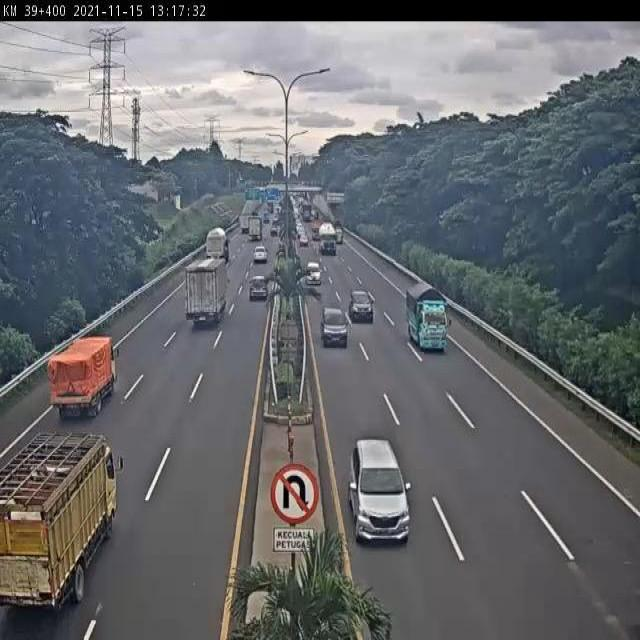car: (346, 436, 413, 547), (320, 306, 351, 351), (348, 291, 376, 325), (247, 273, 271, 303), (304, 260, 323, 288), (252, 243, 270, 265)
truck-l-: (204, 221, 232, 267), (316, 221, 338, 255)
truck-m-: (0, 431, 131, 613), (41, 333, 124, 418), (402, 277, 453, 356), (186, 256, 230, 332)
